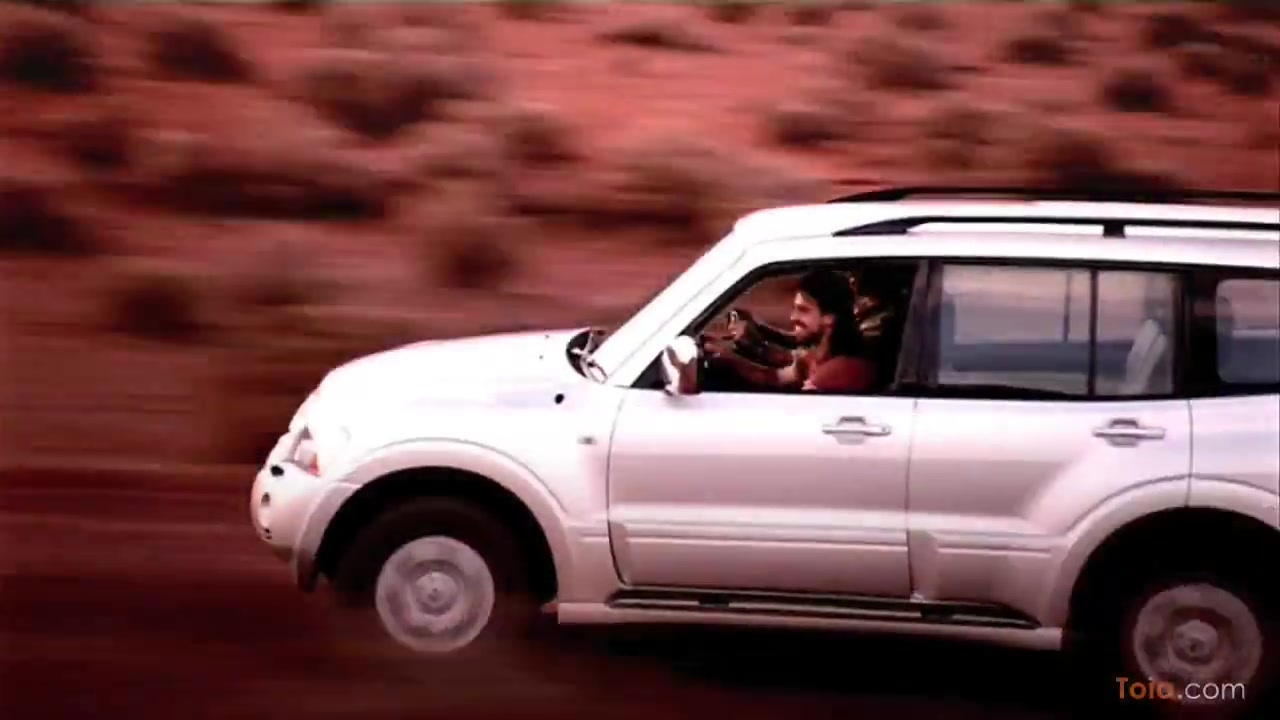car: (249, 181, 1280, 702)
